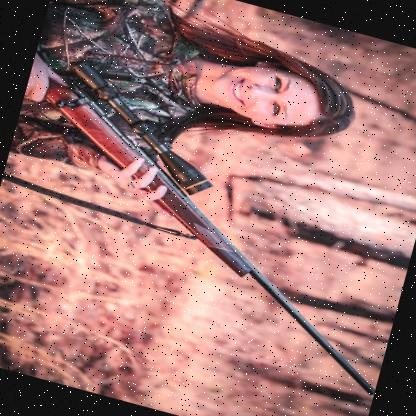rifle: (0, 57, 416, 404)
